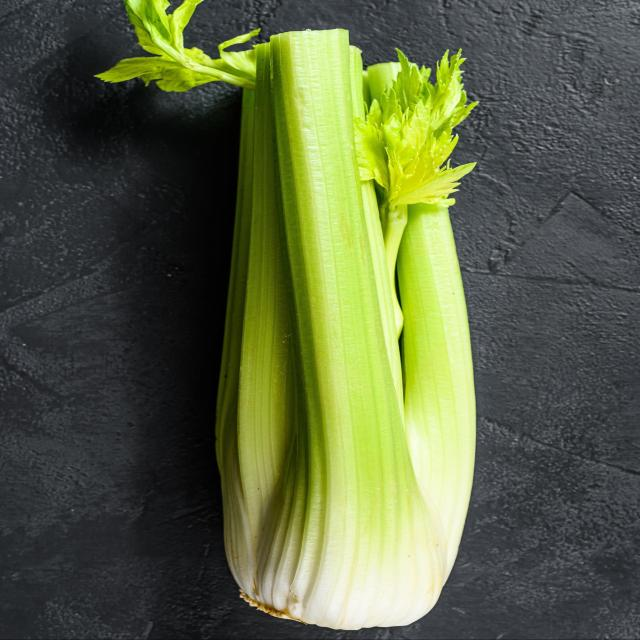celery: (91, 0, 481, 635)
